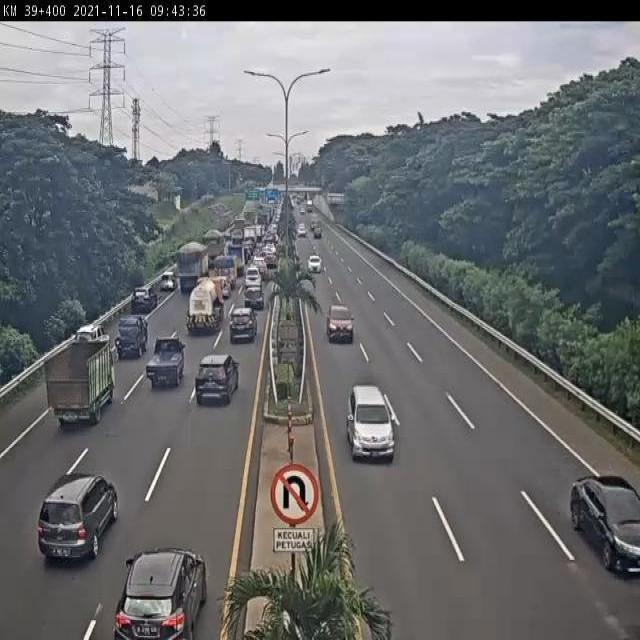car: (107, 541, 205, 640), (36, 463, 122, 573), (565, 476, 640, 572), (343, 384, 397, 459), (195, 348, 242, 409), (146, 335, 189, 395), (114, 312, 148, 359), (228, 303, 261, 345), (323, 303, 355, 344), (128, 286, 157, 314), (243, 284, 266, 311), (159, 267, 180, 292), (244, 264, 262, 291), (213, 275, 233, 299), (306, 251, 323, 275), (250, 255, 268, 276), (263, 251, 279, 268), (312, 224, 322, 239), (297, 224, 307, 237)
truck: (38, 331, 117, 428), (188, 275, 225, 337), (176, 240, 213, 291), (197, 227, 229, 269), (215, 258, 238, 290), (226, 244, 246, 276)
